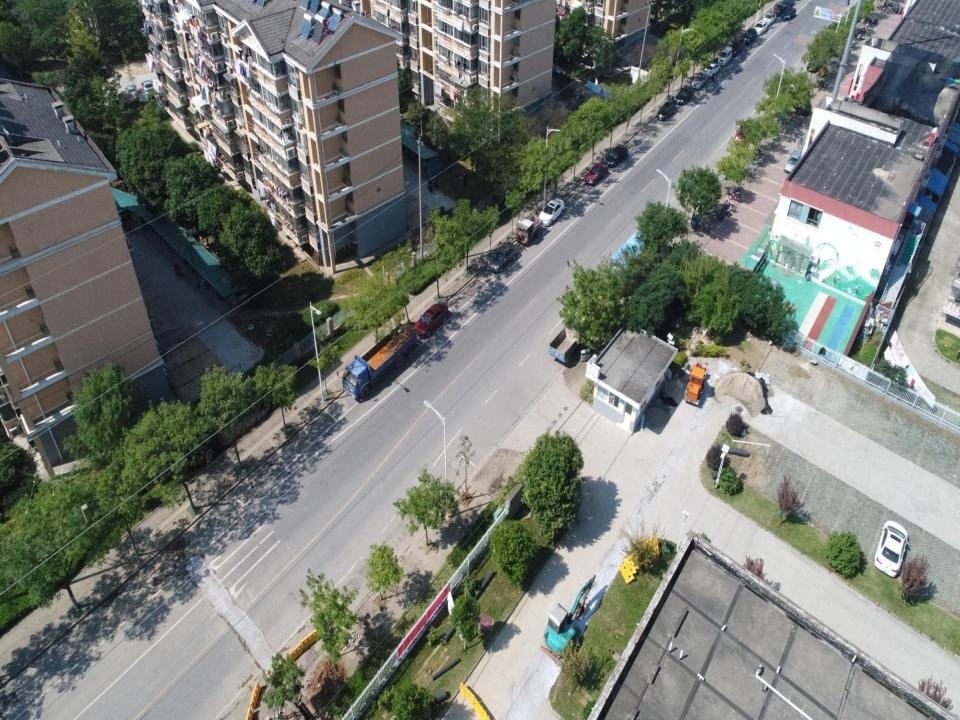bus: (607, 216, 659, 295)
car: (874, 520, 909, 578), (413, 301, 449, 339), (487, 241, 518, 274), (84, 57, 115, 81), (538, 198, 564, 226), (583, 160, 609, 186), (734, 118, 756, 148), (604, 144, 628, 168), (797, 134, 815, 164), (794, 85, 812, 115), (783, 149, 803, 174), (656, 100, 676, 122), (674, 86, 693, 106), (691, 71, 709, 91), (806, 49, 820, 72), (741, 28, 758, 46), (140, 78, 156, 96), (703, 61, 721, 77), (752, 20, 768, 36), (730, 40, 745, 57), (781, 6, 796, 21), (125, 84, 137, 99)
truck: (342, 323, 417, 400), (549, 304, 590, 364), (515, 213, 543, 248), (773, 0, 797, 16)
van: (718, 45, 732, 66), (762, 10, 776, 26)
